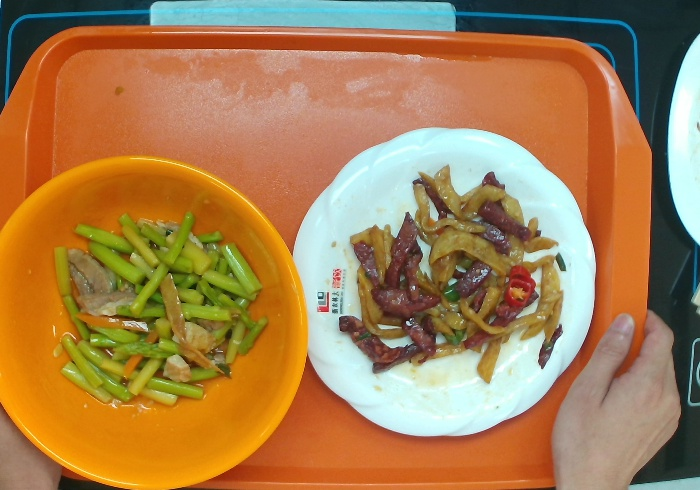ZNLD-Hua_Bian_Wan: (291, 123, 603, 442)
ZNLD-Ju_Se_Tang_Wan: (1, 157, 306, 490)
